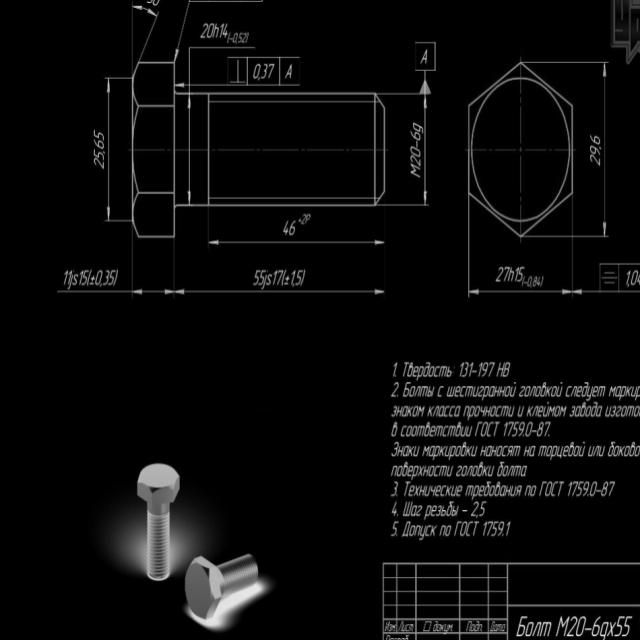marking_line: (175, 287, 387, 299), (601, 79, 610, 237), (57, 284, 173, 296), (205, 239, 388, 246), (105, 79, 113, 221), (185, 94, 193, 205), (421, 95, 429, 204), (470, 289, 569, 297), (573, 285, 637, 297), (176, 81, 249, 89), (132, 3, 161, 19)
numeric: (61, 265, 120, 288), (252, 268, 309, 290), (407, 120, 424, 181), (284, 212, 312, 238), (495, 264, 525, 284), (586, 128, 601, 168), (250, 61, 274, 83), (93, 129, 106, 168), (226, 30, 252, 48), (201, 23, 230, 38), (282, 63, 298, 81), (625, 267, 640, 285), (526, 277, 546, 290)
